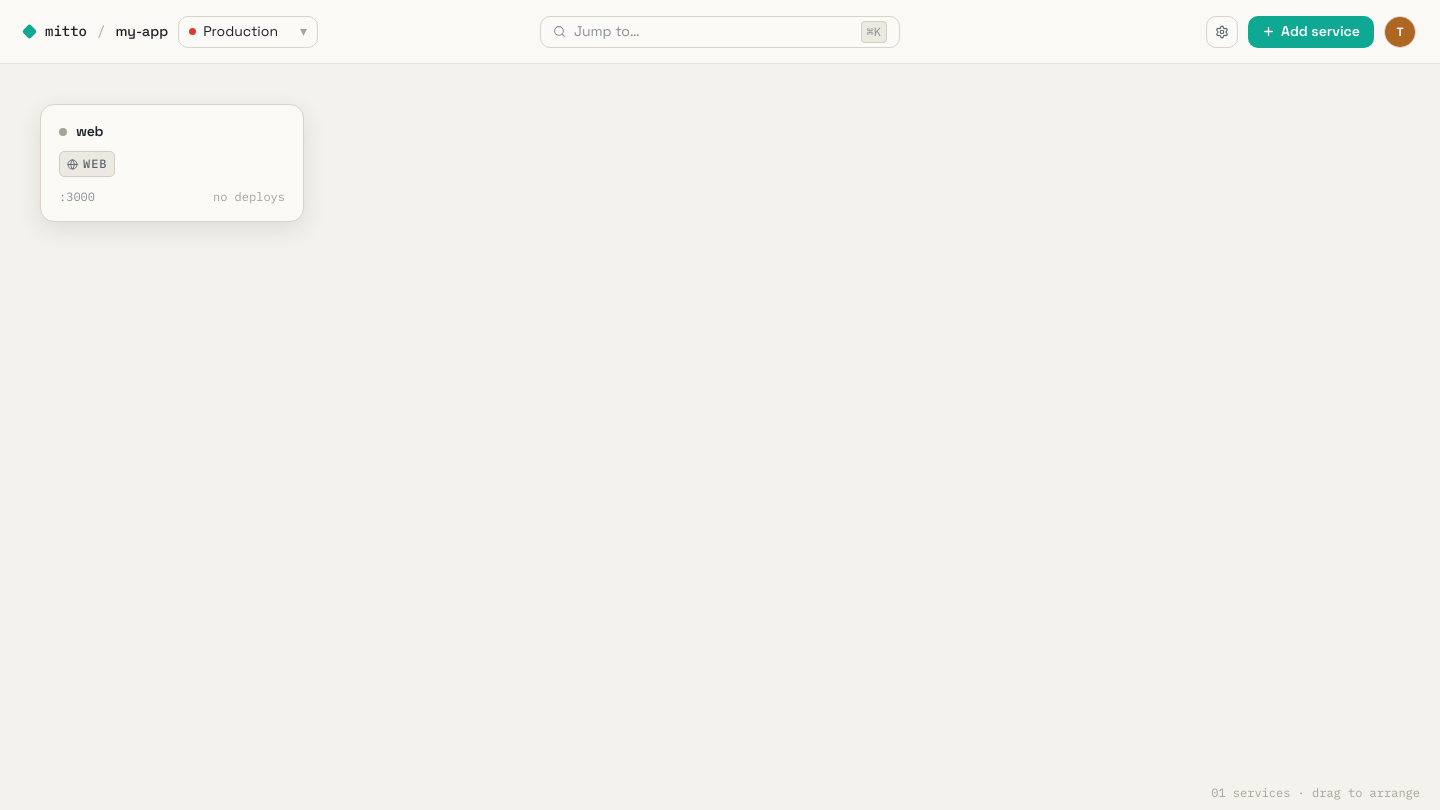
Test case: ProjectPage (canvas) › opens the project panel on the Settings tab from the settings icon
Check: the button "my-app" is shown, box [115,21,168,42]
Click the button named "Project settings" at (1222, 32), box [1206,16,1238,48]
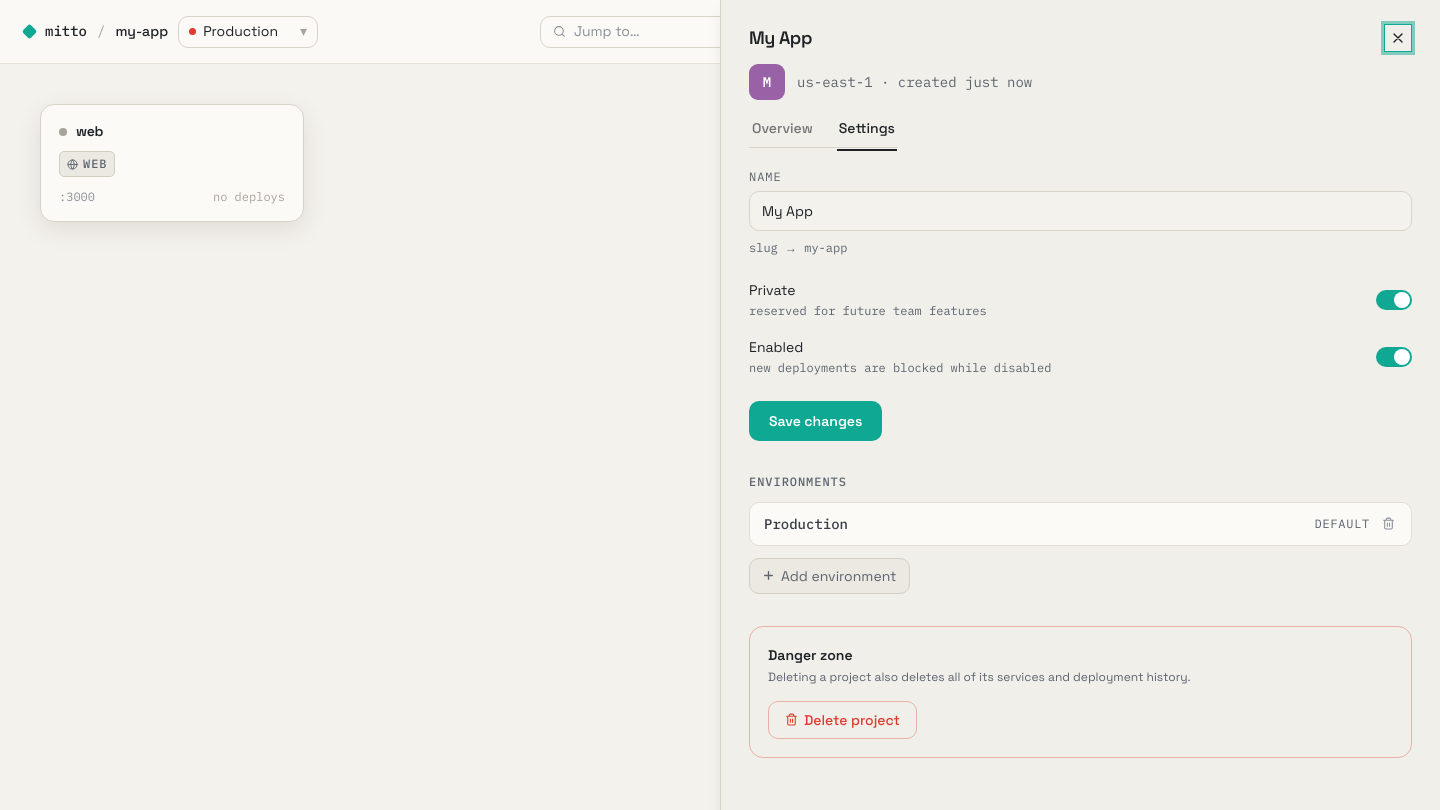
Check: the button "Delete project" is shown, box [768,701,917,739]
